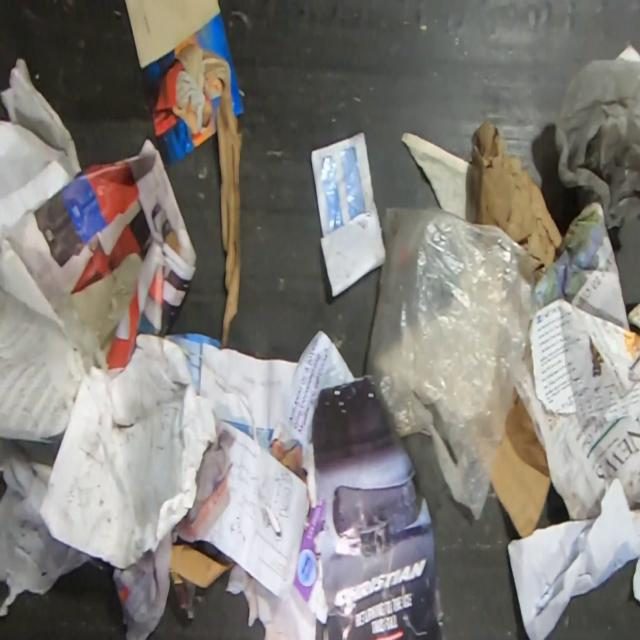cardboard: (472, 119, 566, 271), (488, 386, 552, 538)
soft_plastic: (362, 206, 545, 521), (557, 57, 640, 230)
